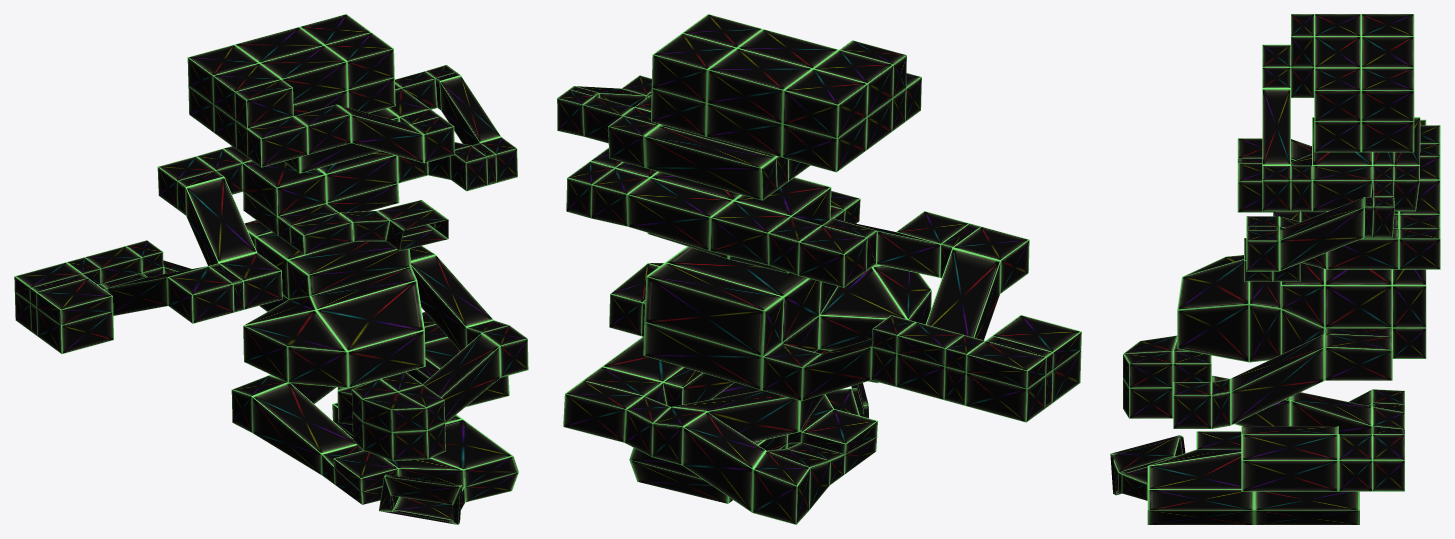
File: bunker_dungeon_security_tunnel_physics.DAE
3 renders of one model, left to right at view 1: azimuth 30°, elevation 25°; view 2: azimuth 150°, elevation 25°; view 3: azimuth 270°, elevation 25°, orthographic. The views are drawn at different scales.
Visible parts, largest first — view 1: Box10; view 2: Box10; view 3: Box10.
Boxes of the visible parts, x1,y1,x2,y2 form: Box10: (14, 14, 528, 524); Box10: (557, 14, 1081, 524); Box10: (1110, 14, 1440, 524).
Size of the model in its own units: 142 by 130 by 92.51.
